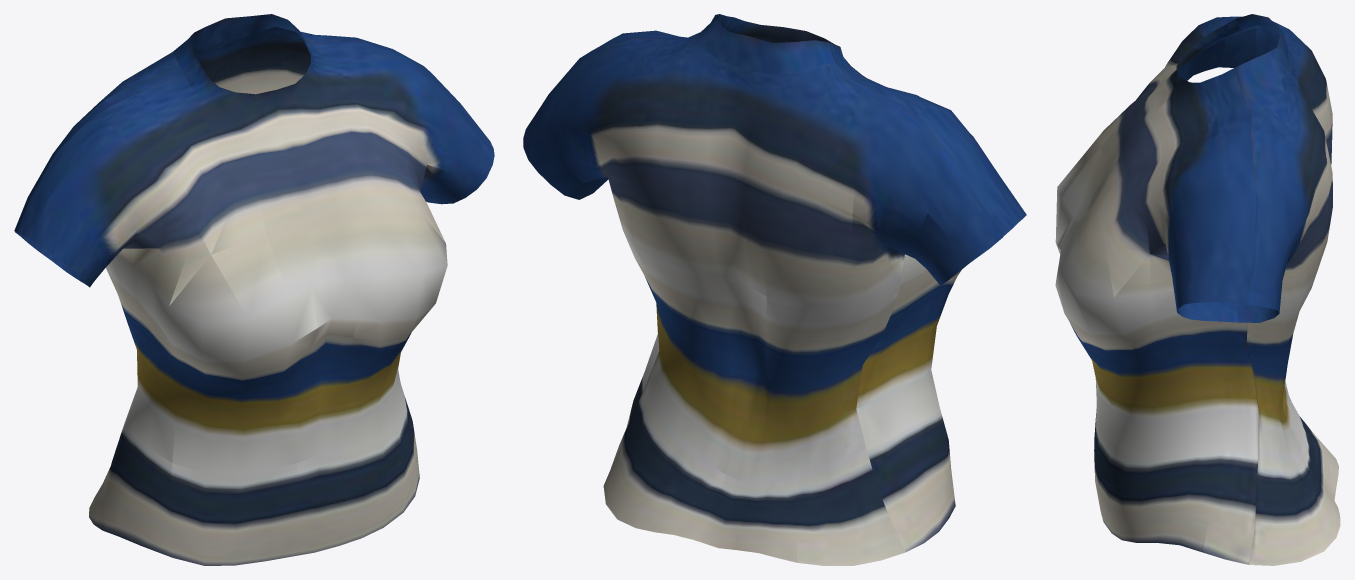
The model's file is TM_SMF.dae.
The picture shows the model from 3 angles, left to right: view 1: azimuth 30°, elevation 25°; view 2: azimuth 150°, elevation 25°; view 3: azimuth 270°, elevation 25°; orthographic projection. The views are drawn at different scales.
Parts seen in each view (by area): view 1: tshirt_shortMesh; view 2: tshirt_shortMesh; view 3: tshirt_shortMesh.
Boxes of the visible parts, box(x1,y1,x2,y2) form: tshirt_shortMesh: box(14, 14, 494, 565); tshirt_shortMesh: box(523, 14, 1026, 565); tshirt_shortMesh: box(1055, 14, 1340, 565).
Size of the model in its own units: 5.17 by 5.04 by 2.79.
